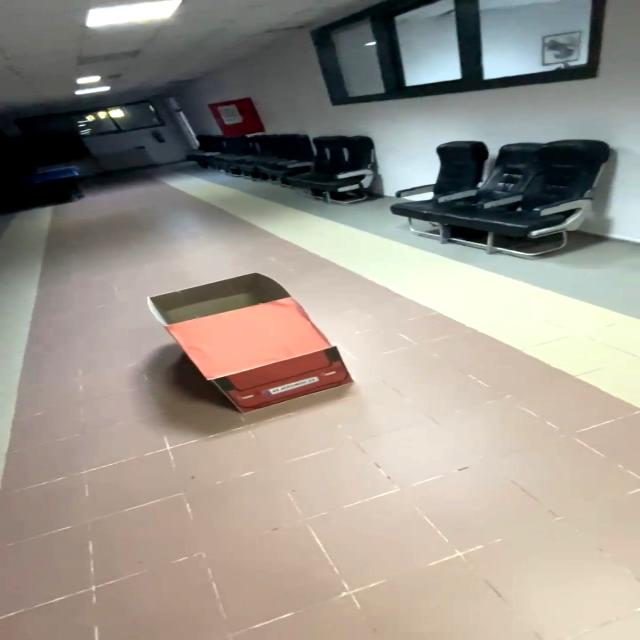red_car: (123, 255, 371, 431)
